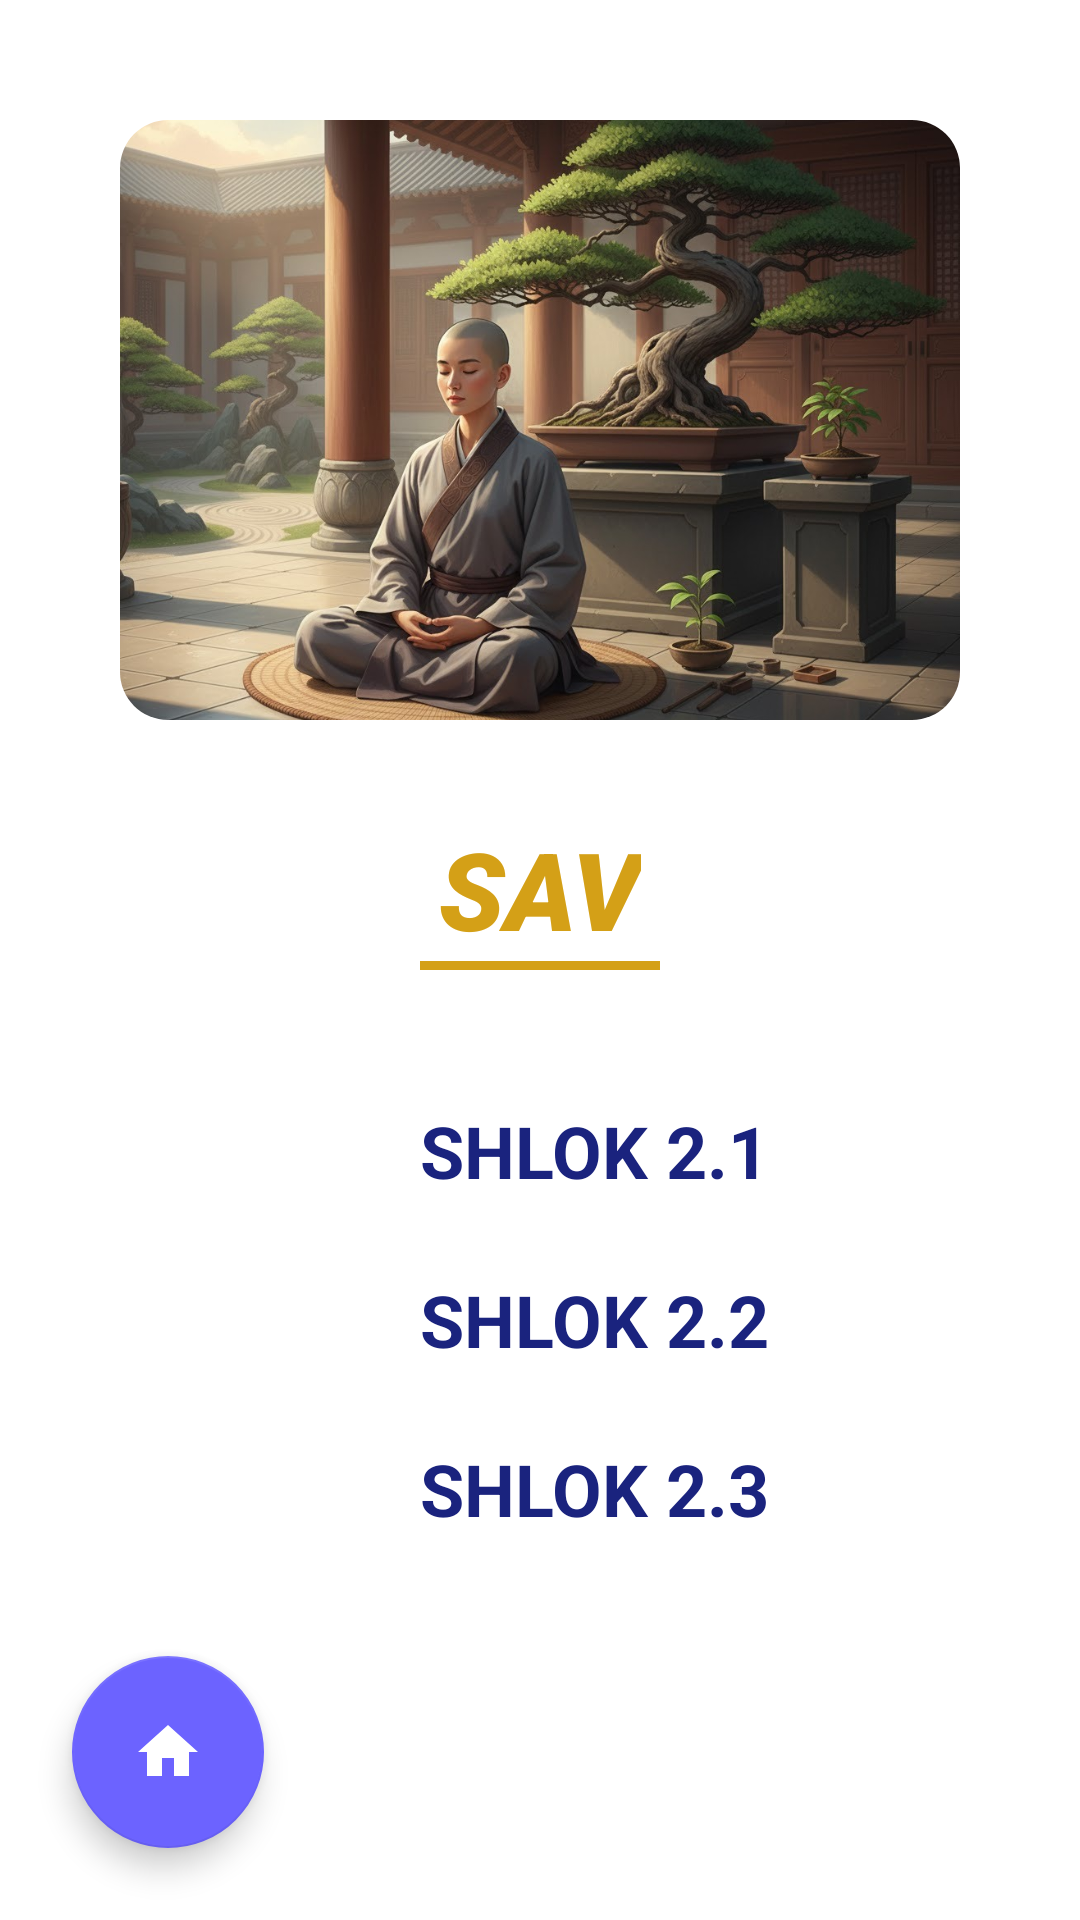

Named icons in this screenshot (1080×1920) and their bounding boxes, [x1, y1, x2, y2]:
Home Button: [72, 1656, 264, 1848]
